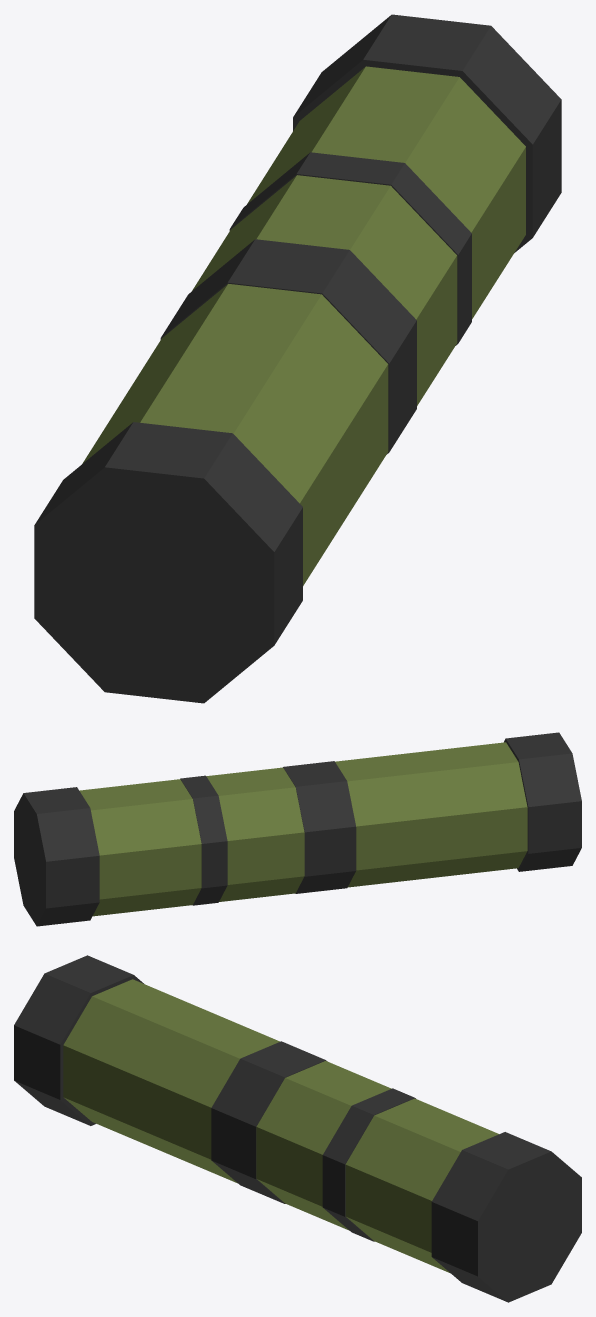
The model's file is ce_ammo2_rpg32_thermo_a.obj.
The picture shows the model from 3 angles, top to bottom: view 1: azimuth 30°, elevation 25°; view 2: azimuth 150°, elevation 25°; view 3: azimuth 270°, elevation 25°; orthographic projection. The views are drawn at different scales.
Visible parts, largest first — view 1: ce_ammo2_rpg32_thermo_a_0, ce_ammo2_rpg32_thermo_a_1, ce_ammo2_rpg32_thermo_a_5, ce_ammo2_rpg32_thermo_a_3, ce_ammo2_rpg32_thermo_a_6, ce_ammo2_rpg32_thermo_a_2, ce_ammo2_rpg32_thermo_a_4; view 2: ce_ammo2_rpg32_thermo_a_1, ce_ammo2_rpg32_thermo_a_5, ce_ammo2_rpg32_thermo_a_6, ce_ammo2_rpg32_thermo_a_3, ce_ammo2_rpg32_thermo_a_0, ce_ammo2_rpg32_thermo_a_2, ce_ammo2_rpg32_thermo_a_4; view 3: ce_ammo2_rpg32_thermo_a_1, ce_ammo2_rpg32_thermo_a_6, ce_ammo2_rpg32_thermo_a_5, ce_ammo2_rpg32_thermo_a_3, ce_ammo2_rpg32_thermo_a_0, ce_ammo2_rpg32_thermo_a_2, ce_ammo2_rpg32_thermo_a_4.
Part boxes in pixels (x1,y1,x2,y2): ce_ammo2_rpg32_thermo_a_0: (34,422,302,703); ce_ammo2_rpg32_thermo_a_1: (82,284,388,585); ce_ammo2_rpg32_thermo_a_5: (247,66,525,318); ce_ammo2_rpg32_thermo_a_3: (192,175,457,405); ce_ammo2_rpg32_thermo_a_6: (293,14,561,252); ce_ammo2_rpg32_thermo_a_2: (160,239,416,454); ce_ammo2_rpg32_thermo_a_4: (229,152,471,345); ce_ammo2_rpg32_thermo_a_1: (335,742,527,887); ce_ammo2_rpg32_thermo_a_5: (79,779,201,916); ce_ammo2_rpg32_thermo_a_6: (14,787,99,926); ce_ammo2_rpg32_thermo_a_3: (206,767,304,901); ce_ammo2_rpg32_thermo_a_0: (504,732,581,871); ce_ammo2_rpg32_thermo_a_2: (283,761,356,893); ce_ammo2_rpg32_thermo_a_4: (180,775,227,905); ce_ammo2_rpg32_thermo_a_1: (63,979,279,1183); ce_ammo2_rpg32_thermo_a_6: (431,1132,581,1302); ce_ammo2_rpg32_thermo_a_5: (345,1098,498,1273); ce_ammo2_rpg32_thermo_a_3: (256,1061,391,1230); ce_ammo2_rpg32_thermo_a_0: (14,955,143,1125); ce_ammo2_rpg32_thermo_a_2: (211,1041,327,1203); ce_ammo2_rpg32_thermo_a_4: (322,1088,415,1241).
Bounding box in the file's own units: 0.6058 × 0.1566 × 0.6058.
